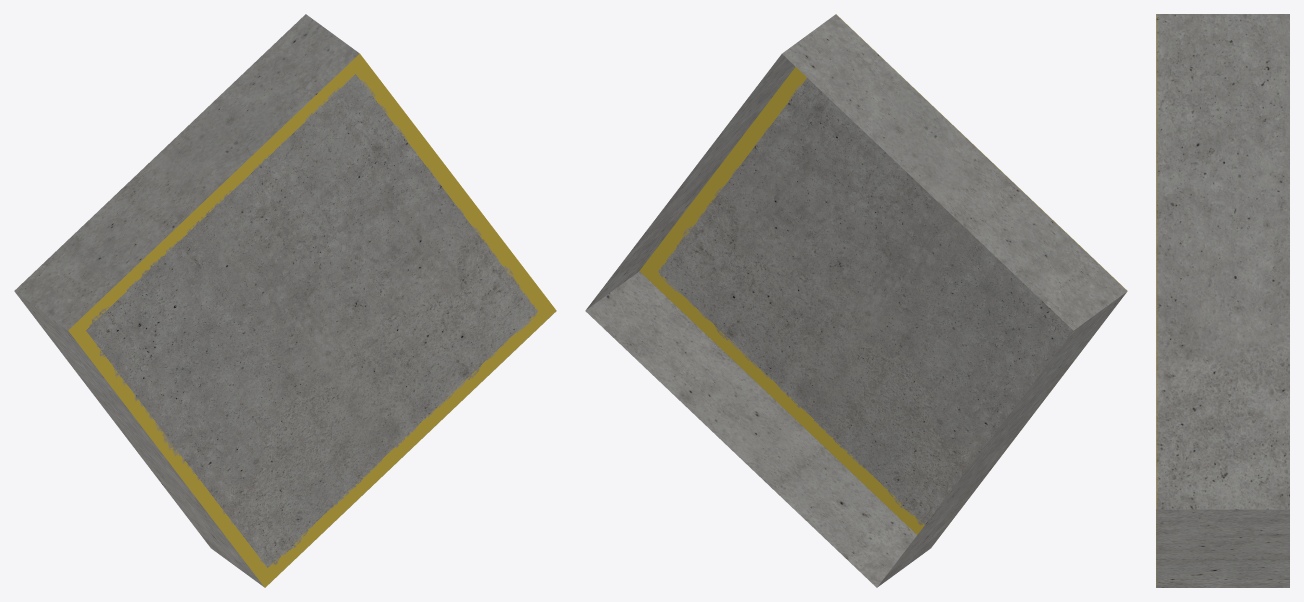
Rendered from baylands_start.glb.
3 views of the same model, side by side, from view 1: azimuth 30°, elevation 25°; view 2: azimuth 150°, elevation 25°; view 3: azimuth 270°, elevation 25° (orthographic). The views are drawn at different scales.
Visible parts, largest first — view 1: Start; view 2: Start; view 3: Start.
Part boxes in pixels (x1,y1,x2,y2): Start: (14,14,556,587); Start: (585,14,1127,587); Start: (1156,14,1289,587).
Bounding box in the file's own units: 8.33 × 8.33 × 1.6.
1 material, 1 textured.
